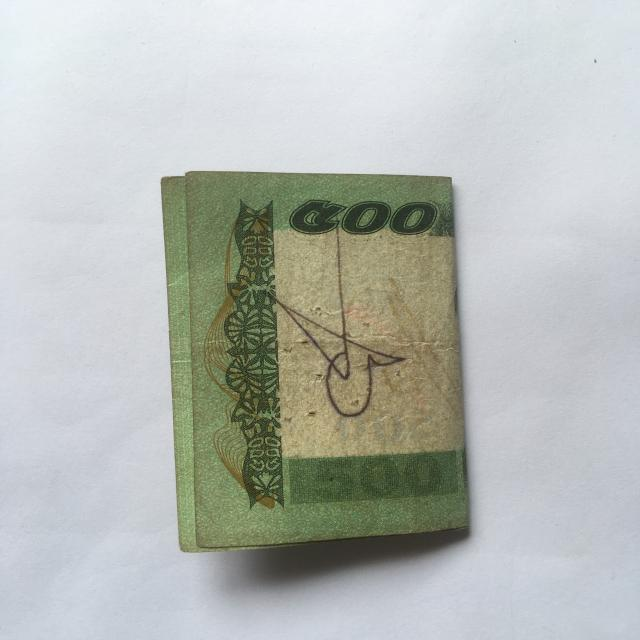Taka: (160, 155, 478, 550)
